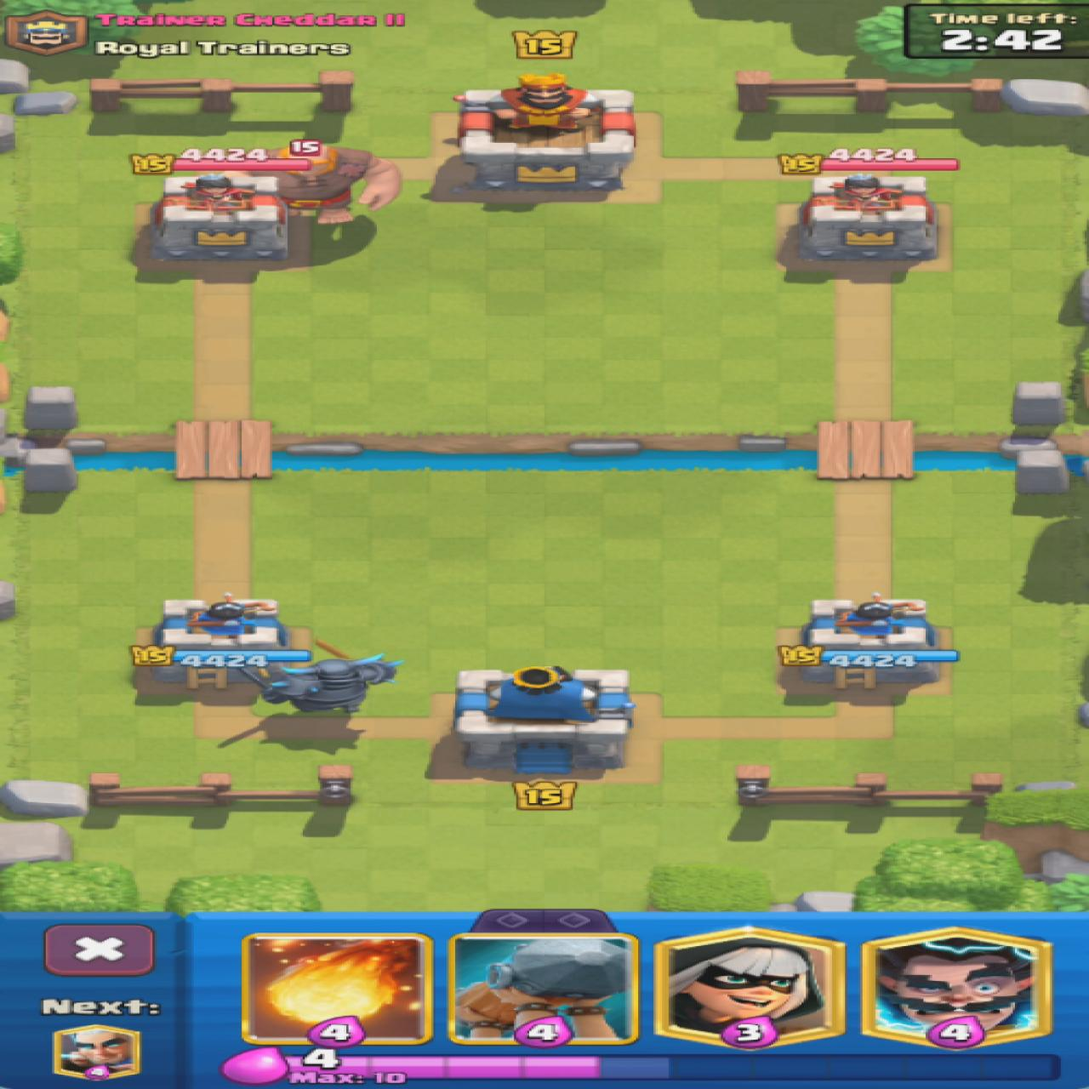Enemy-Giant: (272, 143, 399, 224)
Enemy-KingTower: (457, 87, 634, 193)
Enemy-PrincessTower: (799, 173, 934, 261), (150, 172, 285, 259)
